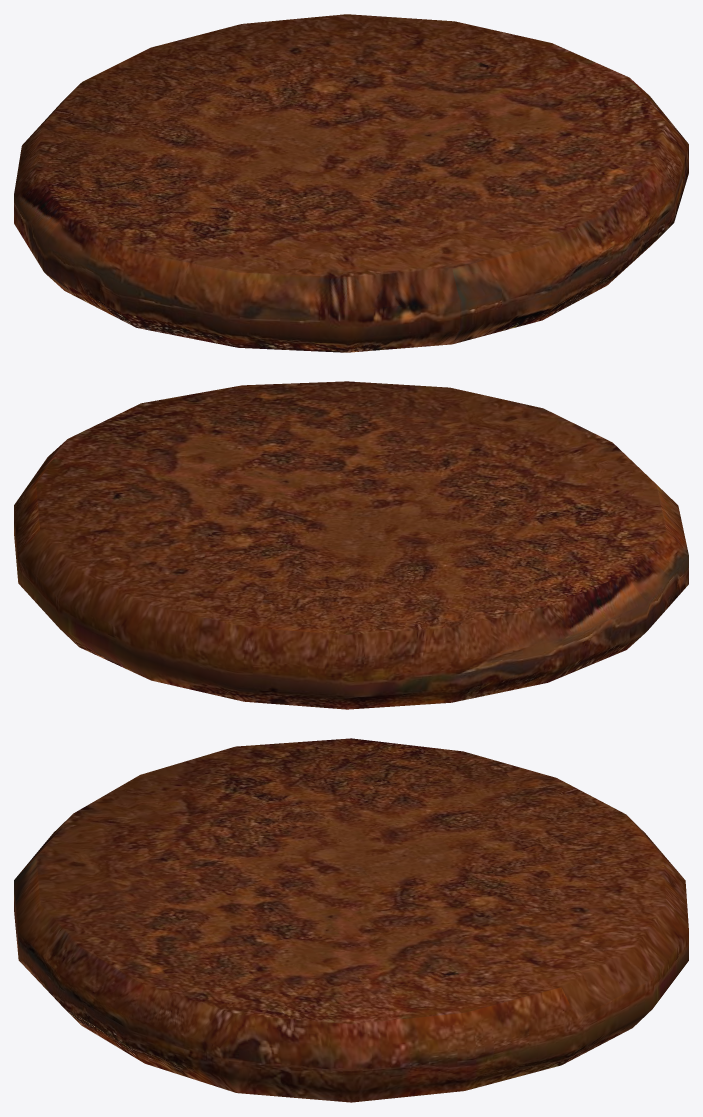
Rendered from patty.glb.
3 views of the same model, one above another, from view 1: azimuth 30°, elevation 25°; view 2: azimuth 150°, elevation 25°; view 3: azimuth 270°, elevation 25° (orthographic). The views are drawn at different scales.
Parts seen in each view (by area): view 1: patty; view 2: patty; view 3: patty.
Boxes of the visible parts, left/top/right/bottom form: patty: left=14, top=14, right=688, bottom=352; patty: left=14, top=381, right=688, bottom=709; patty: left=14, top=738, right=688, bottom=1102.
Size of the model in its own units: 10.92 by 1.33 by 10.17.
1 material, 1 textured.
